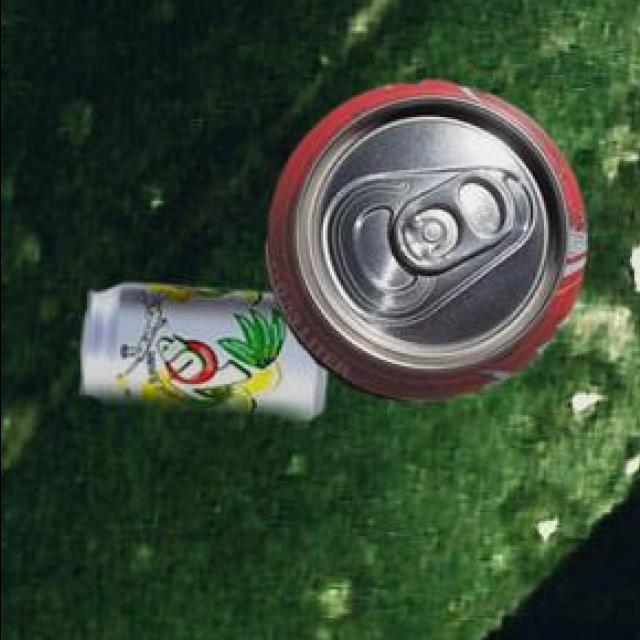logam: (262, 83, 582, 403), (78, 288, 323, 423)
